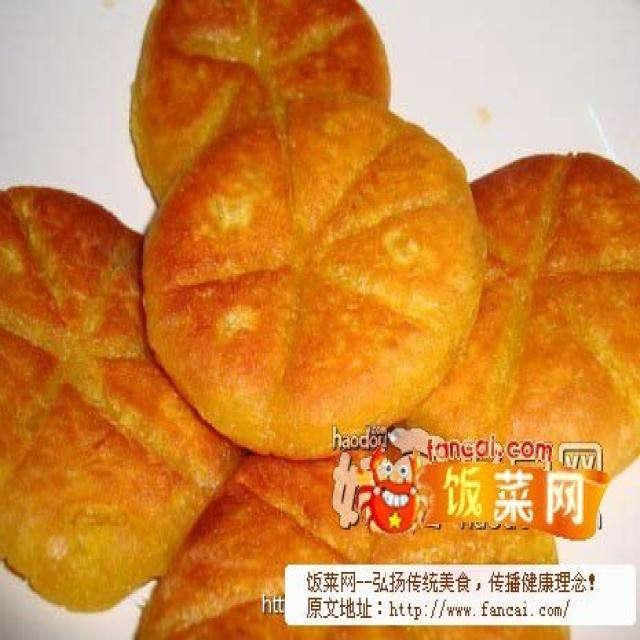炸货点心: (3, 7, 625, 605)
蛋糕甜品: (3, 7, 625, 605)
